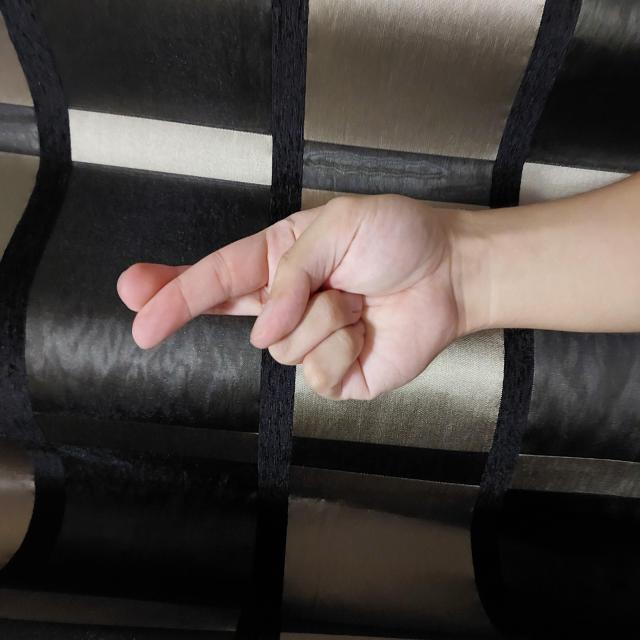R: (236, 115, 448, 459)
